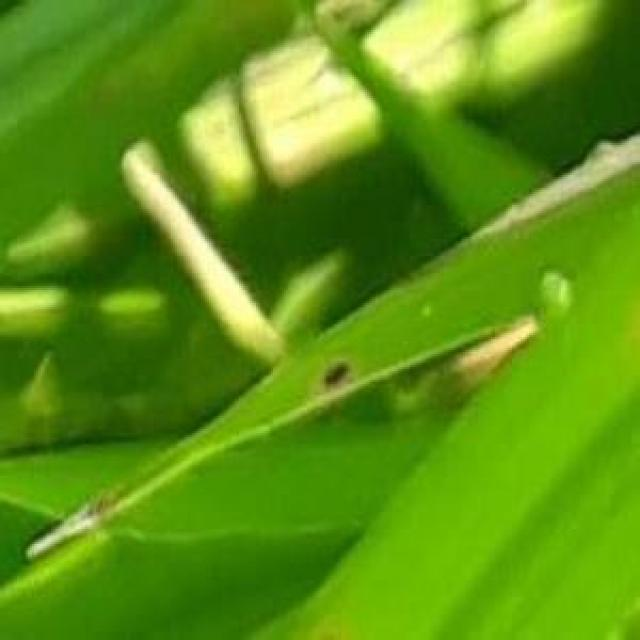brownspots: (312, 356, 354, 391)
